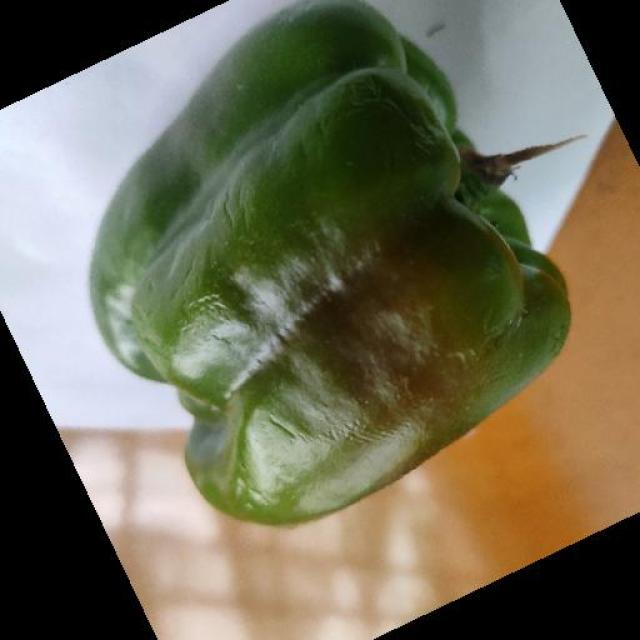Stale_Capsicum: (46, 92, 548, 482)
